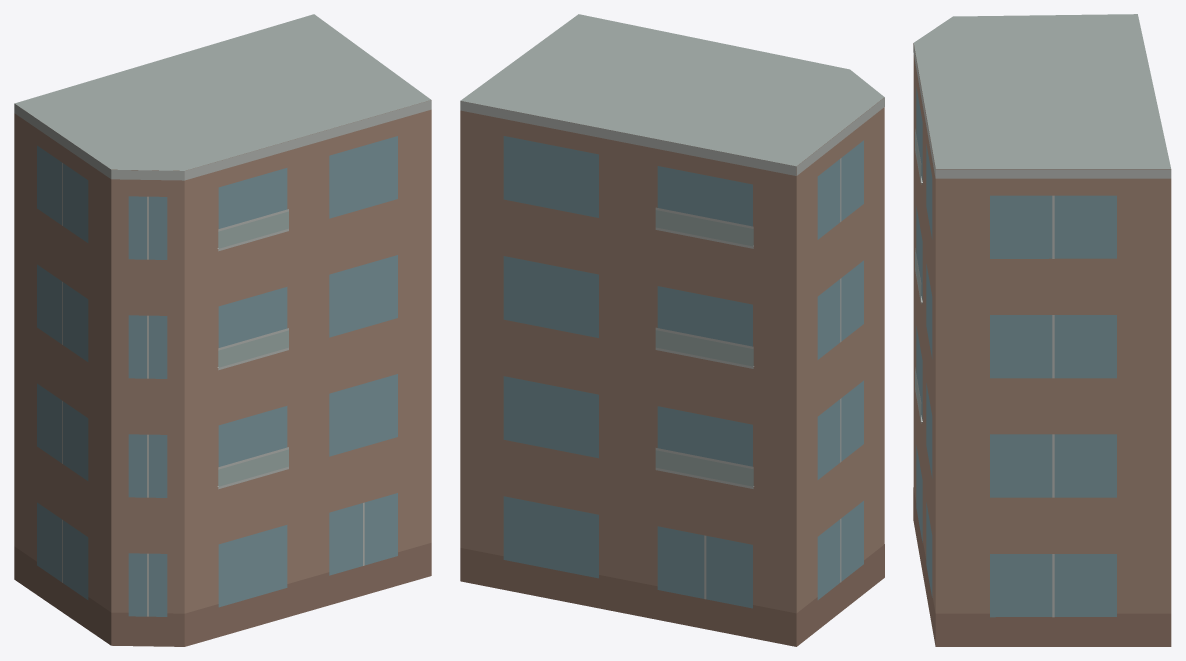
File: survey-upis-32469551.glb
3 views of the same model, side by side, from view 1: azimuth 30°, elevation 25°; view 2: azimuth 150°, elevation 25°; view 3: azimuth 270°, elevation 25° (orthographic).
Visible parts, largest first — view 1: survey-upis-32469551.tmp; view 2: survey-upis-32469551.tmp; view 3: survey-upis-32469551.tmp.
Part boxes in pixels (<box>): survey-upis-32469551.tmp: <box>14,14,431,646</box>; survey-upis-32469551.tmp: <box>460,14,884,646</box>; survey-upis-32469551.tmp: <box>913,14,1171,646</box>.
Bounding box in the file's own units: 8.36 × 12 × 5.88.
